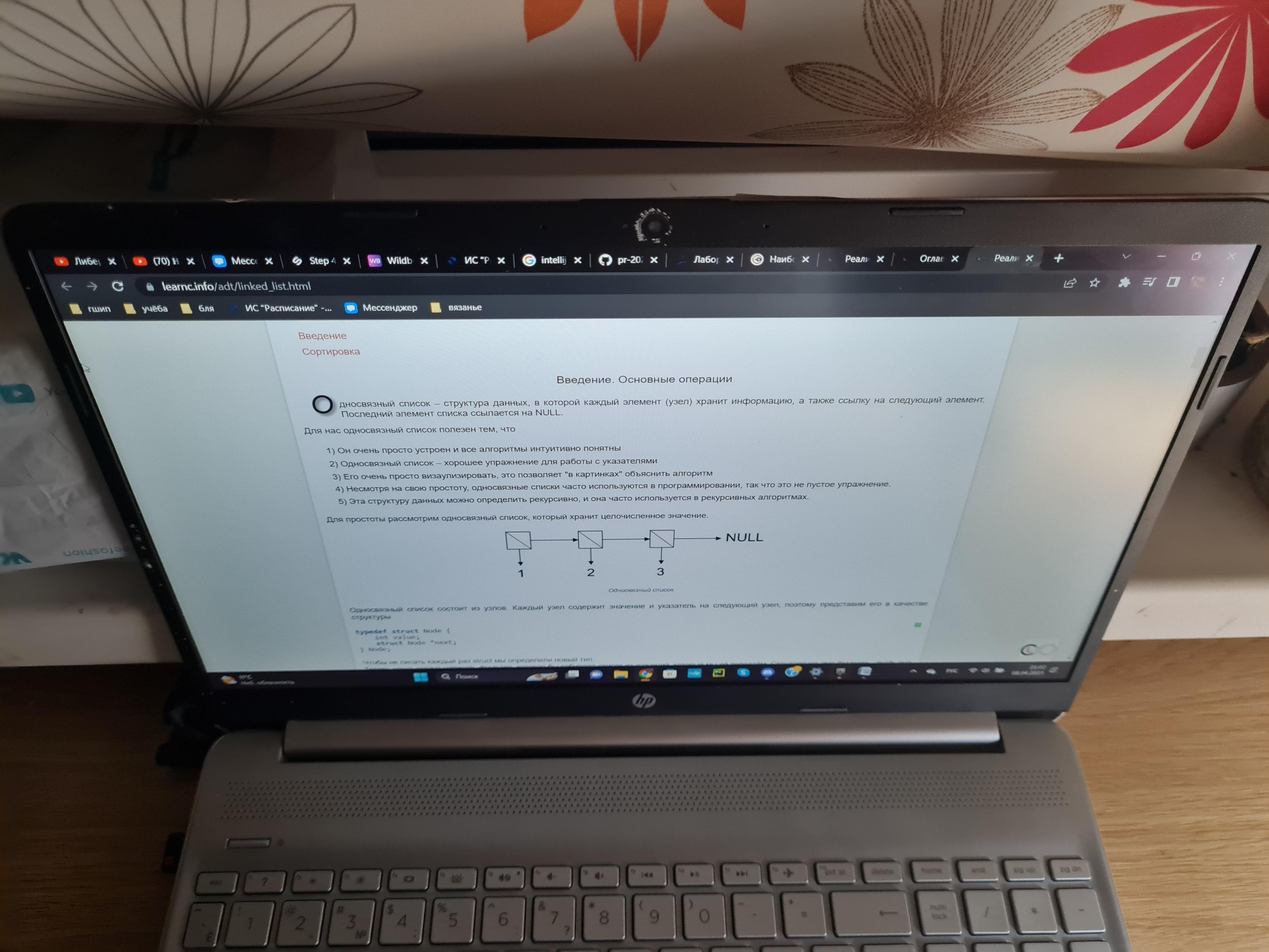monitor: (0, 190, 1269, 734)
